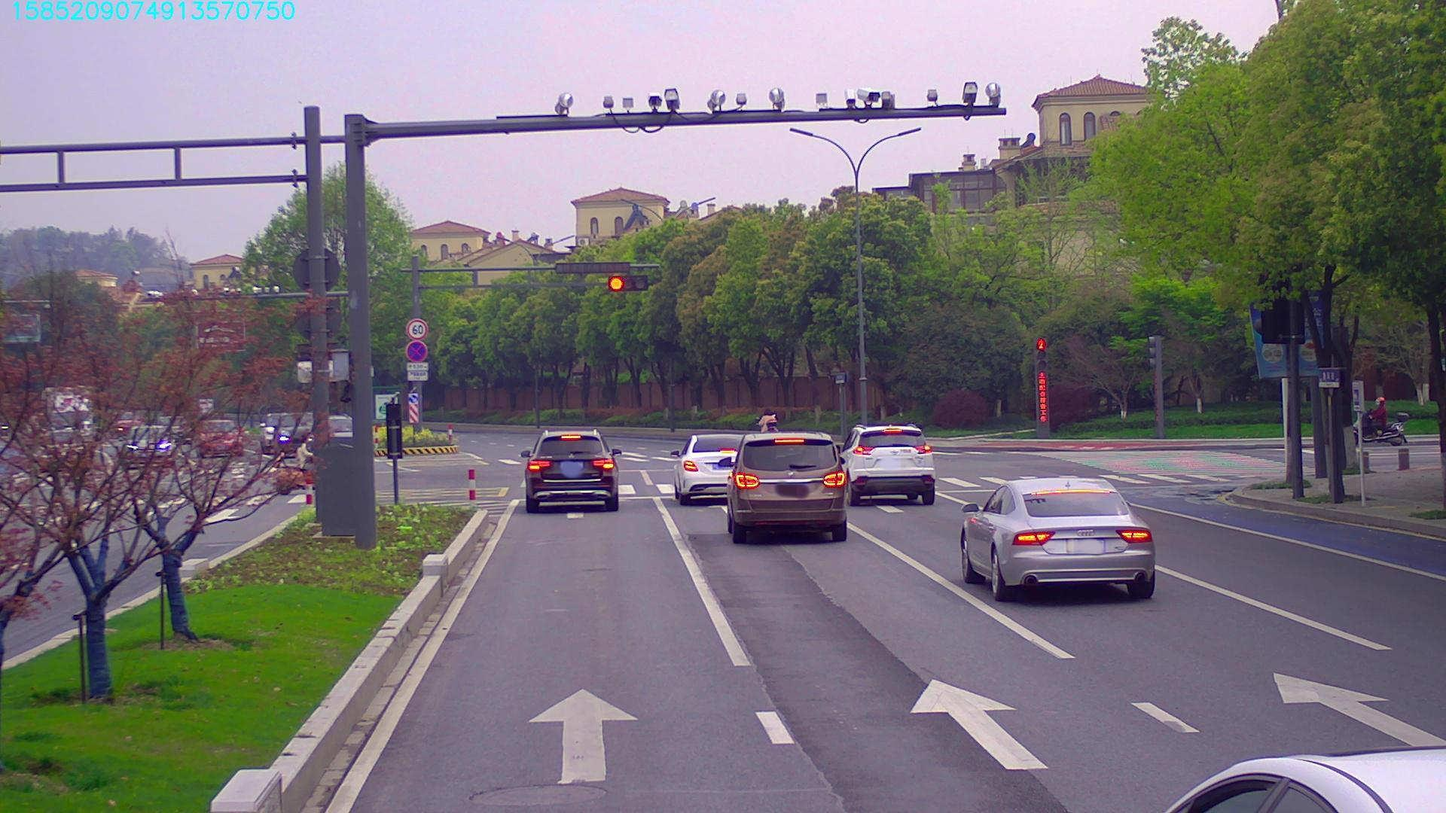red: (607, 275, 653, 291)
